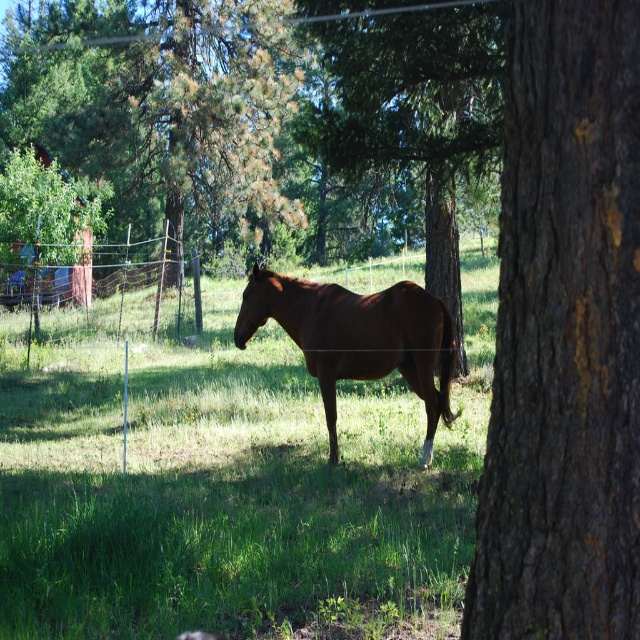Horse: (235, 257, 464, 473)
